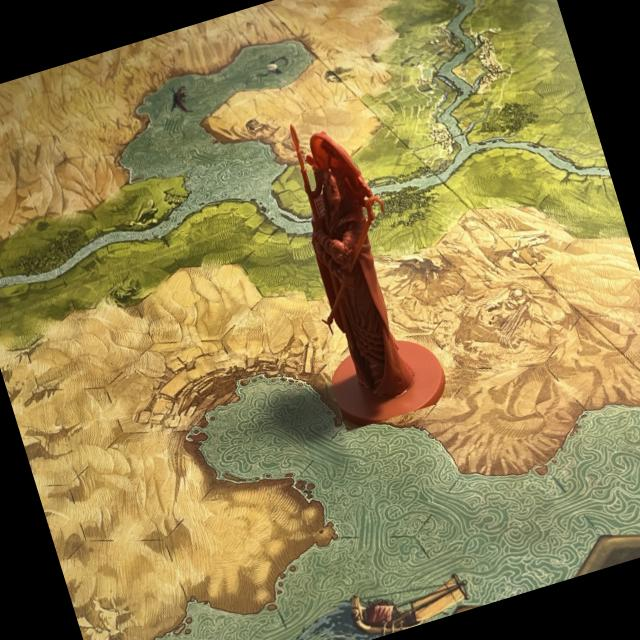amon: (254, 90, 466, 430)
